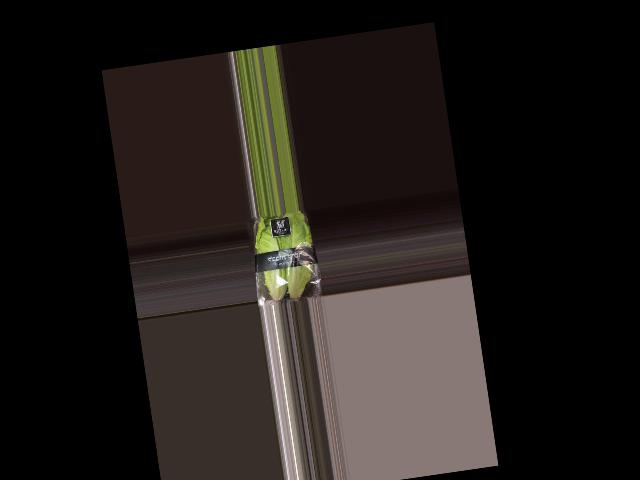lettuce: (246, 210, 318, 307)
